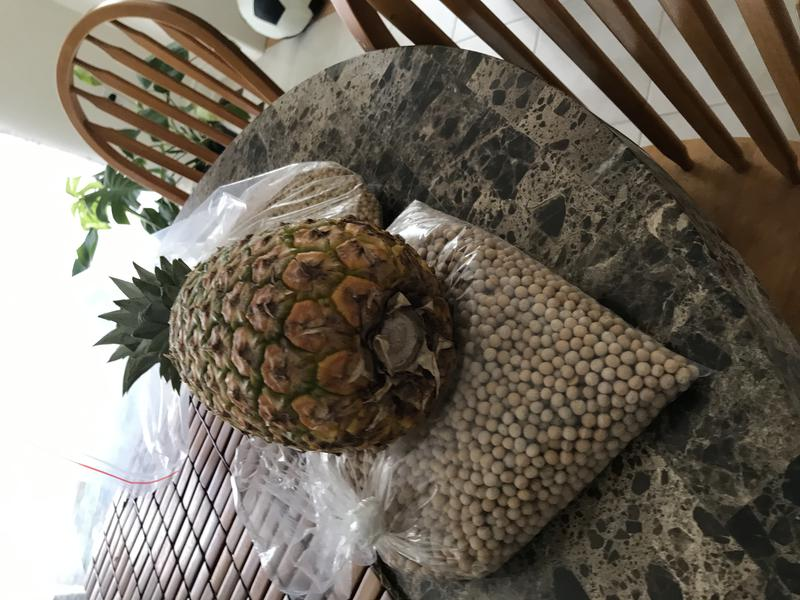pineapple: (89, 213, 467, 459)
